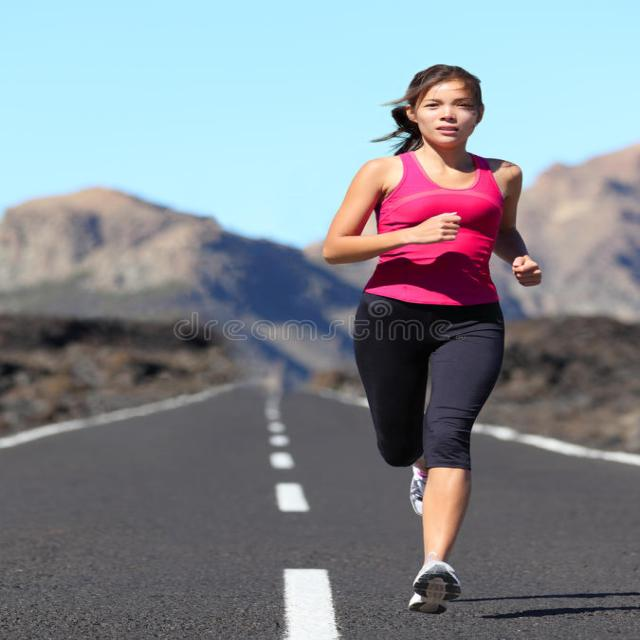running: (321, 63, 543, 622)
